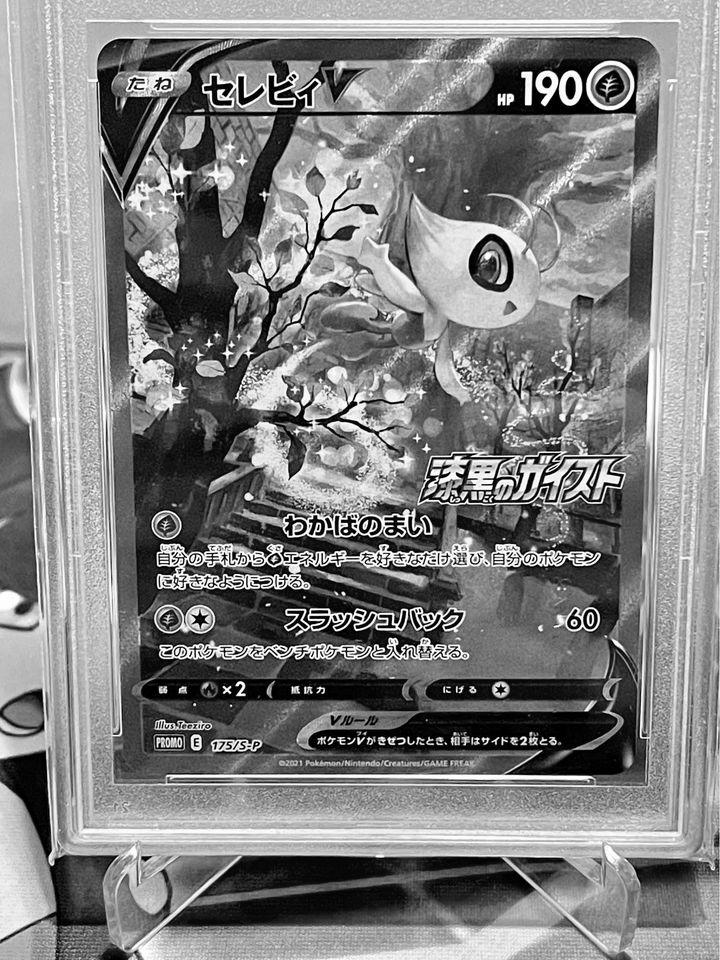card: (94, 36, 664, 776)
